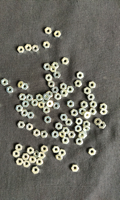nut: (32, 167, 40, 175), (71, 165, 79, 173), (89, 148, 97, 156), (16, 158, 24, 166), (15, 144, 23, 152), (62, 137, 70, 145), (76, 138, 84, 146), (95, 118, 103, 126), (71, 109, 79, 117), (79, 108, 87, 116), (67, 100, 75, 108), (43, 93, 51, 101), (75, 80, 83, 88), (45, 74, 53, 82), (62, 57, 70, 65), (17, 46, 25, 54), (23, 161, 31, 168), (29, 157, 37, 164), (36, 159, 44, 166), (22, 154, 30, 161), (27, 147, 34, 155), (52, 147, 60, 154), (18, 121, 25, 129), (41, 131, 48, 139), (52, 131, 59, 139), (79, 132, 86, 140), (68, 132, 76, 139), (59, 131, 67, 138), (99, 122, 107, 129), (65, 119, 73, 126), (45, 116, 52, 124), (27, 112, 35, 119), (89, 108, 97, 115), (100, 109, 108, 116), (90, 101, 98, 108), (81, 101, 88, 109), (84, 87, 91, 95), (89, 82, 97, 89), (53, 103, 61, 110), (22, 101, 30, 108), (7, 86, 14, 94), (31, 100, 39, 107), (38, 101, 45, 109), (36, 94, 43, 102), (61, 89, 68, 97), (50, 65, 57, 73), (44, 63, 51, 71), (25, 44, 32, 52), (32, 45, 39, 53), (43, 41, 50, 49), (45, 27, 52, 35), (54, 31, 62, 38), (13, 151, 20, 158), (34, 151, 41, 158), (41, 146, 48, 153), (56, 154, 63, 161), (59, 150, 66, 157), (26, 124, 33, 131), (81, 131, 88, 138), (63, 128, 70, 135), (75, 126, 82, 133), (76, 118, 83, 125), (56, 123, 63, 130), (61, 114, 68, 121), (21, 110, 28, 117), (16, 105, 23, 112), (84, 112, 91, 119), (88, 94, 95, 101), (43, 107, 50, 114), (1, 79, 8, 86), (19, 94, 26, 101), (26, 95, 33, 102), (18, 82, 25, 89), (22, 83, 29, 90), (47, 101, 54, 108), (46, 91, 53, 98), (55, 93, 62, 100), (52, 87, 59, 94), (67, 86, 74, 93), (77, 72, 84, 79), (48, 81, 55, 88), (54, 72, 61, 79), (52, 62, 59, 69), (34, 129, 40, 137), (83, 126, 91, 132), (83, 121, 91, 127), (100, 104, 108, 110), (39, 153, 46, 159), (43, 97, 49, 104), (61, 83, 67, 90), (62, 92, 69, 97)
